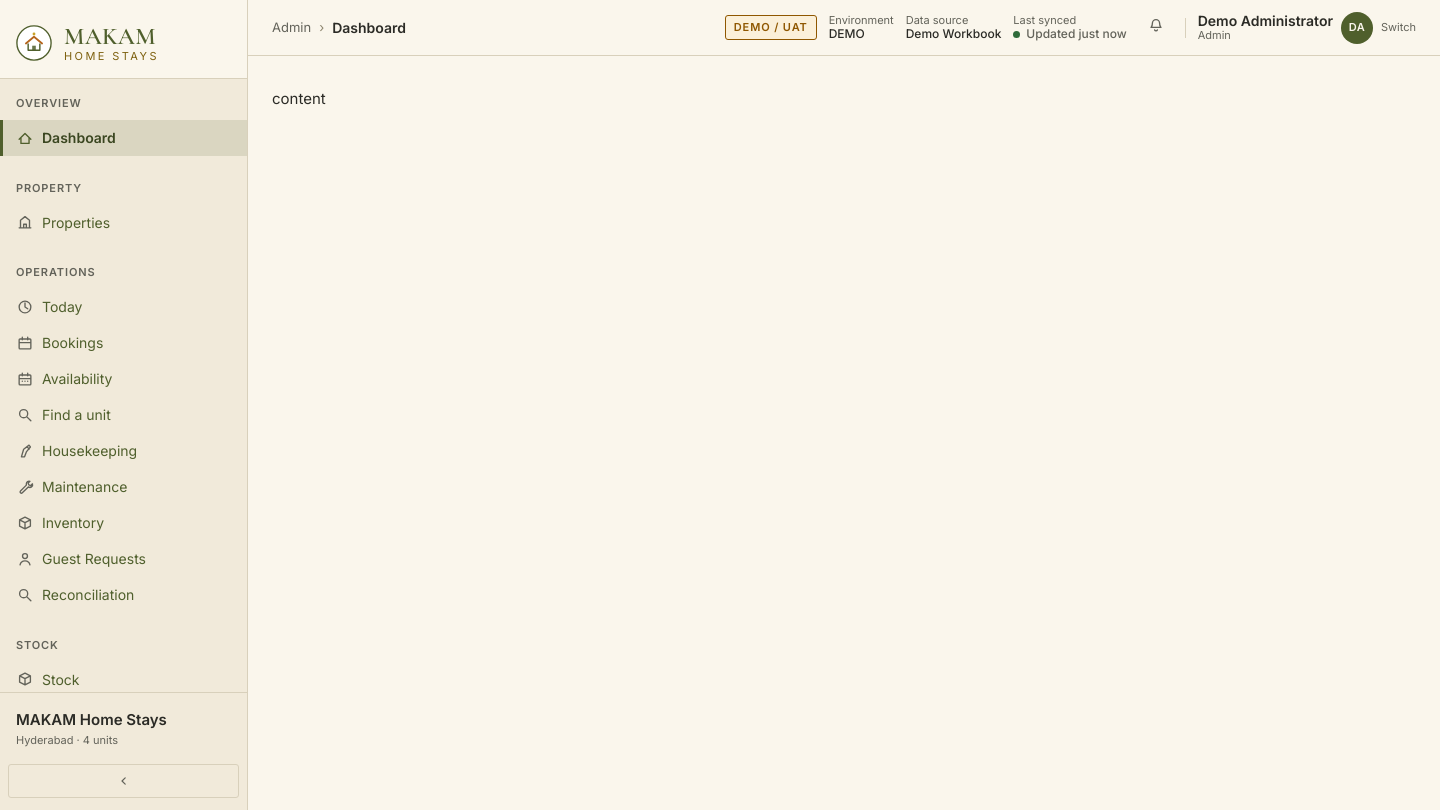
Test: rendered shells › the rail collapse toggles, announces its state, and keeps tooltips
Step 1. Click the button named "Collapse the navigation rail" → x=124, y=781, box [8,764,239,798]
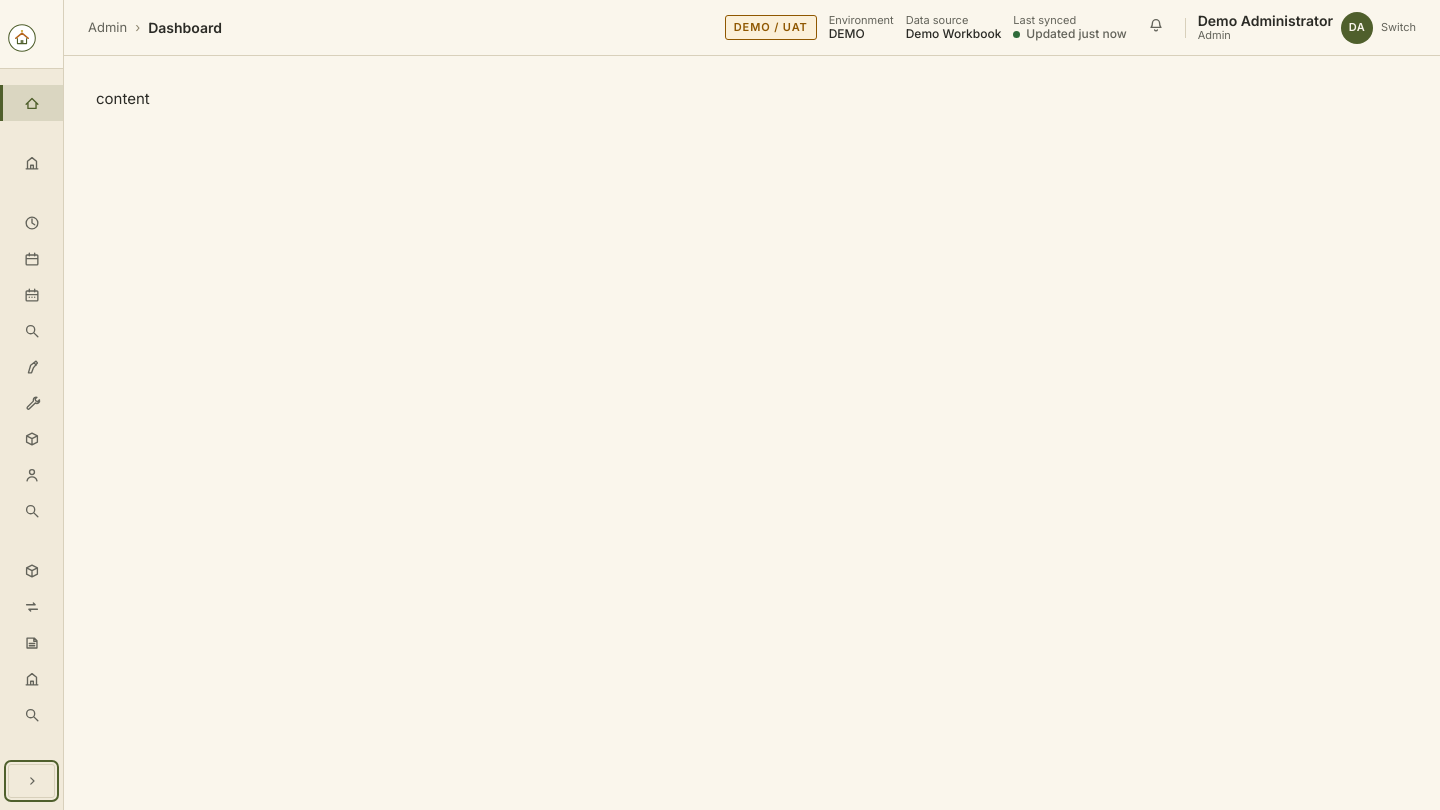
Check: the element with class "sv-shell--railmin" is shown
